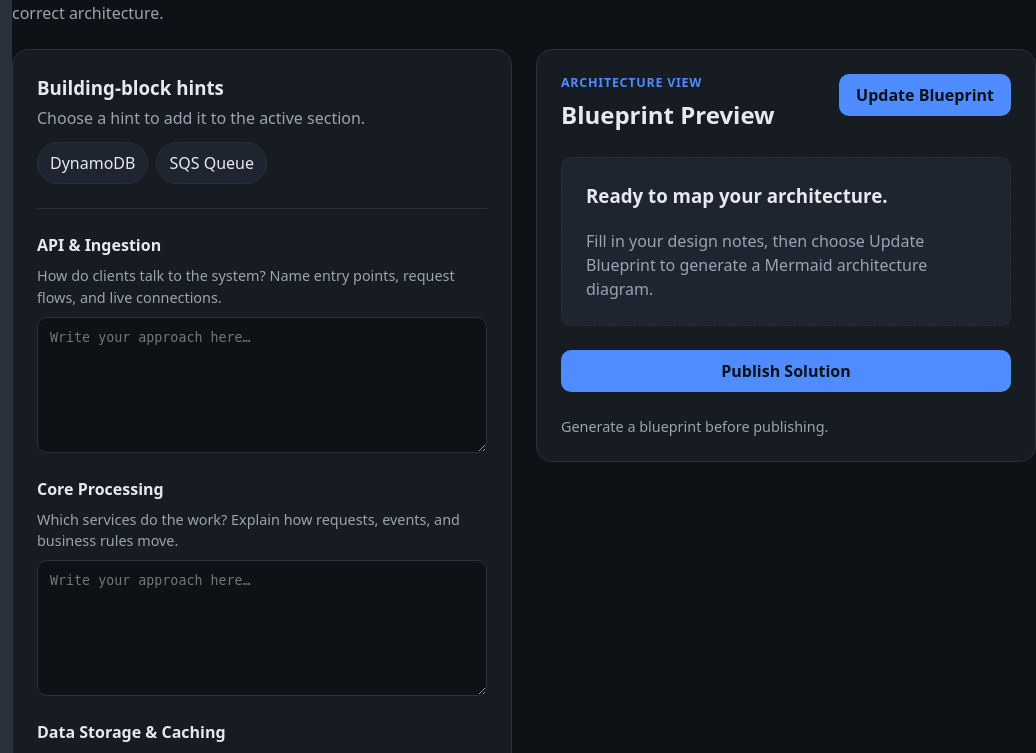
Test case: keeps the rendered blueprint and draft when publication fails
(page scrolled)
Type "REST API" into the text box labelled "API & Ingestion".
click(262, 384); type("REST API")  # box [37,316,487,452]
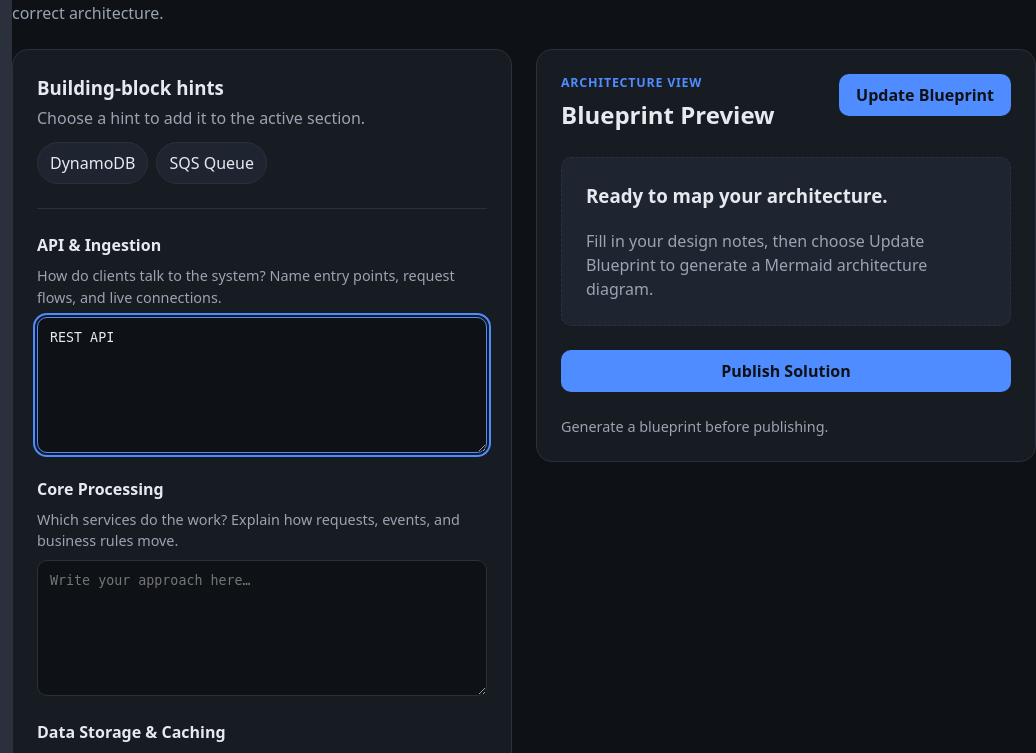
Click the button "Update Blueprint".
click(925, 95)  # box [839,74,1011,116]
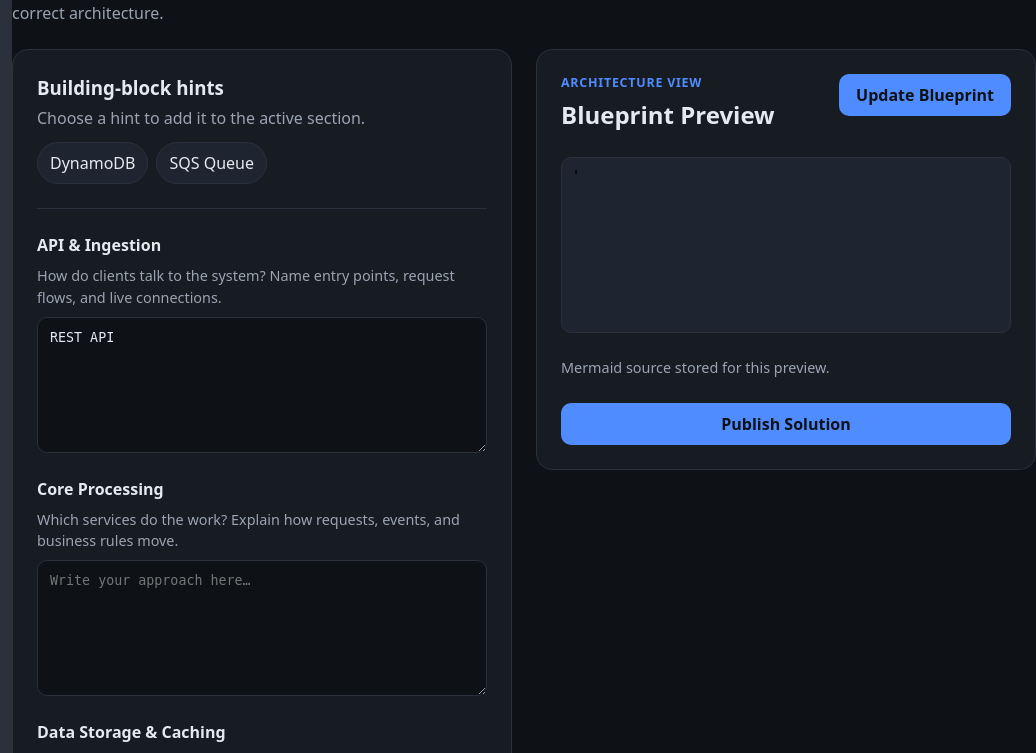
Click the button "Publish Solution".
click(786, 424)  # box [561,403,1011,445]
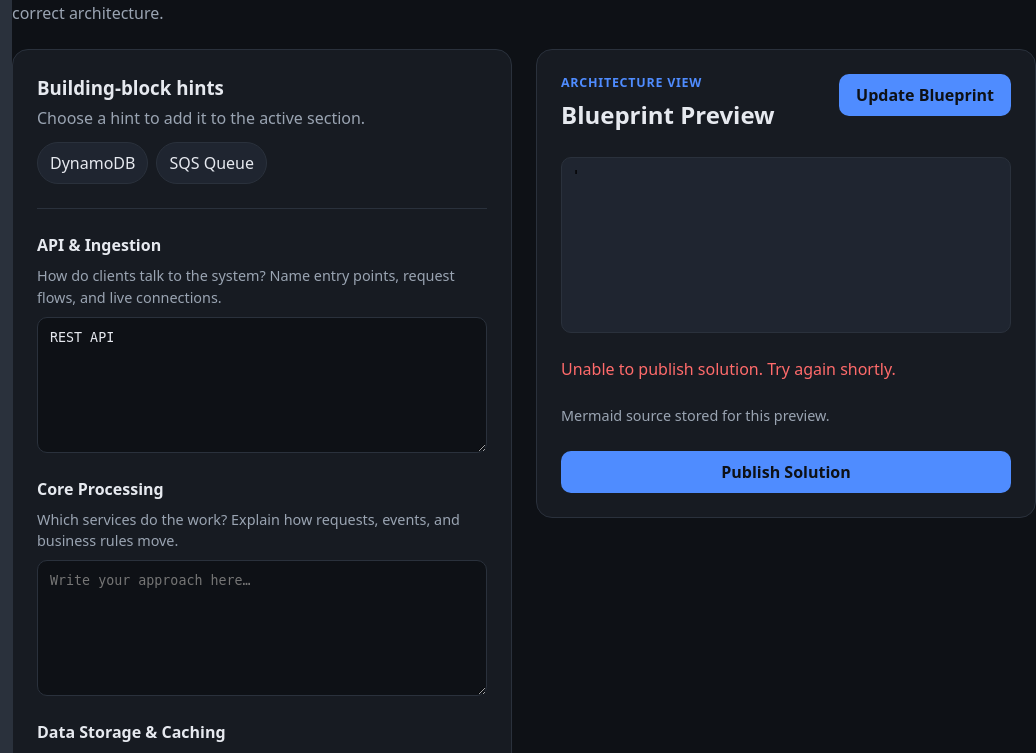
Expected: the message reads "Unable to publish solution. Try again shortly.", [561,358,896,380]
